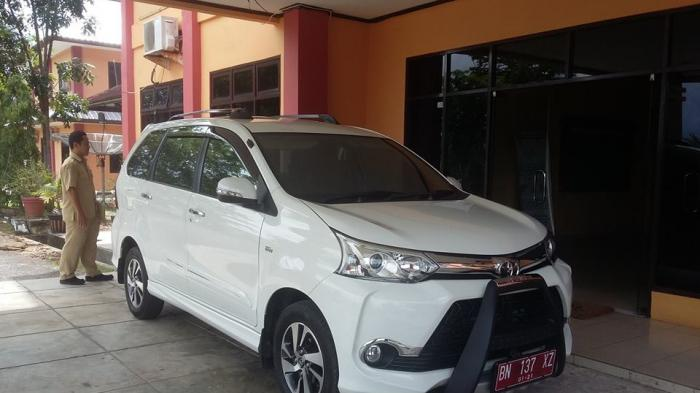plate: (496, 351, 555, 388)
